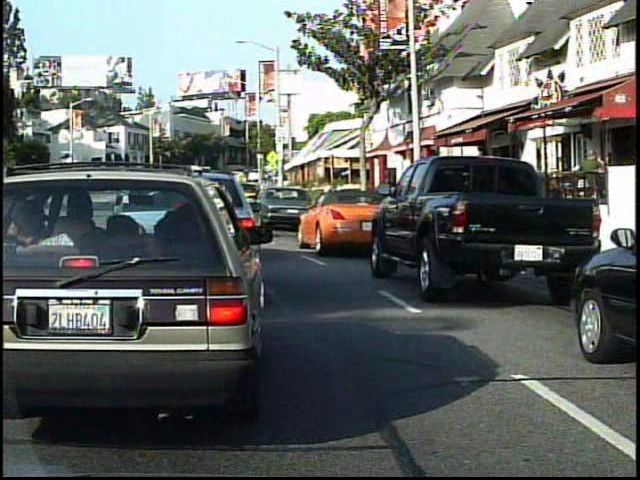person: (573, 145, 607, 225)
